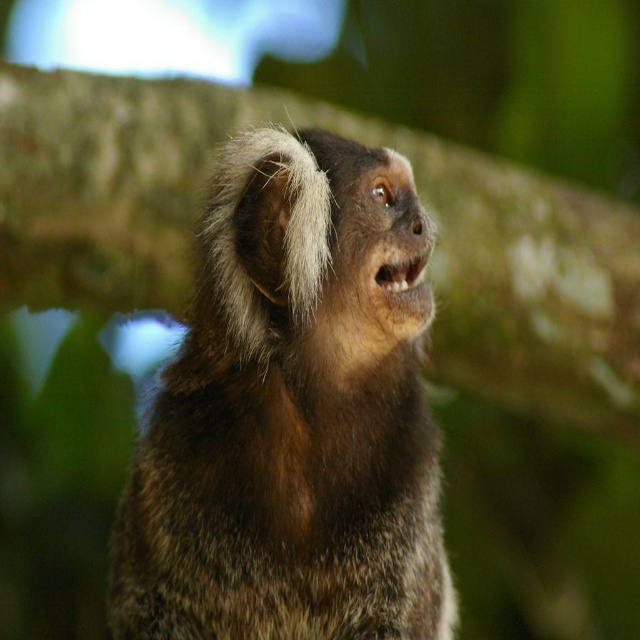Monkey: (103, 101, 466, 640)
